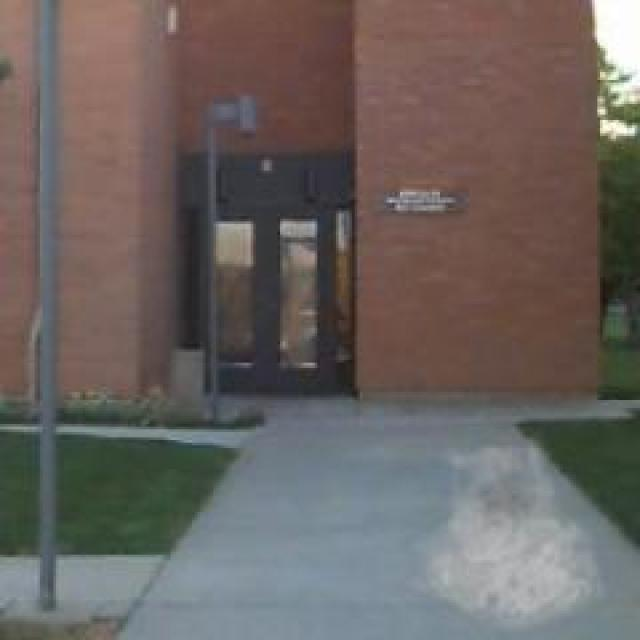smoke: (405, 430, 608, 634)
